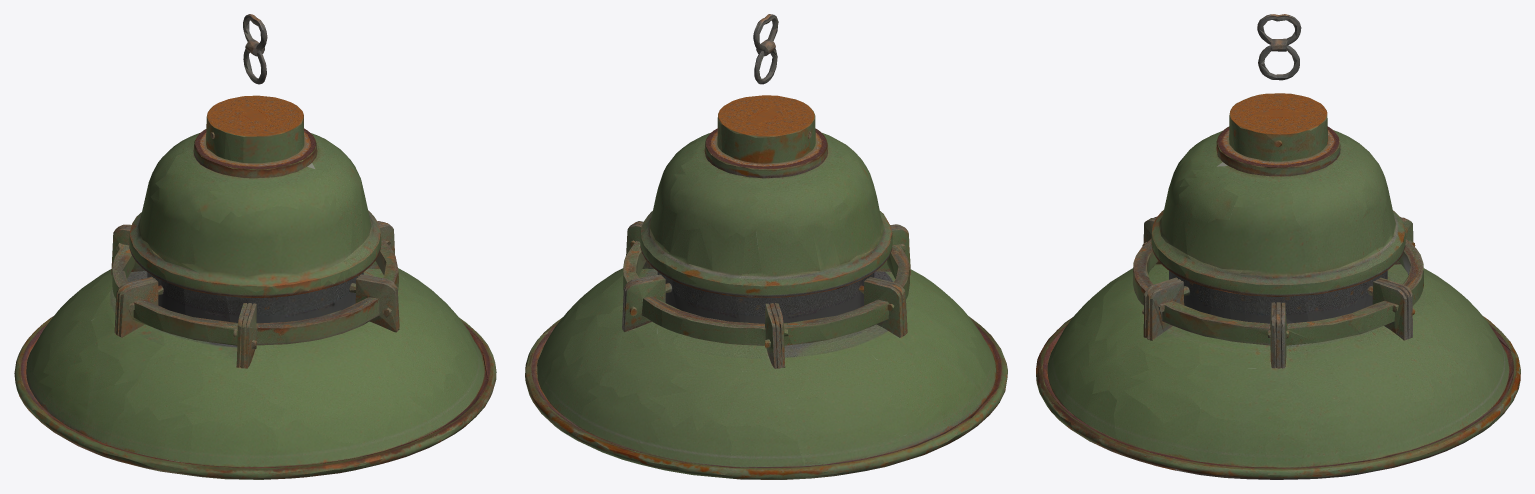
The model's file is lampada_capannone.glb.
3 renders of one model, left to right at view 1: azimuth 30°, elevation 25°; view 2: azimuth 150°, elevation 25°; view 3: azimuth 270°, elevation 25°, orthographic.
Bounding box in the file's own units: 1.9 × 1.58 × 1.9.
1 material, 1 textured.
